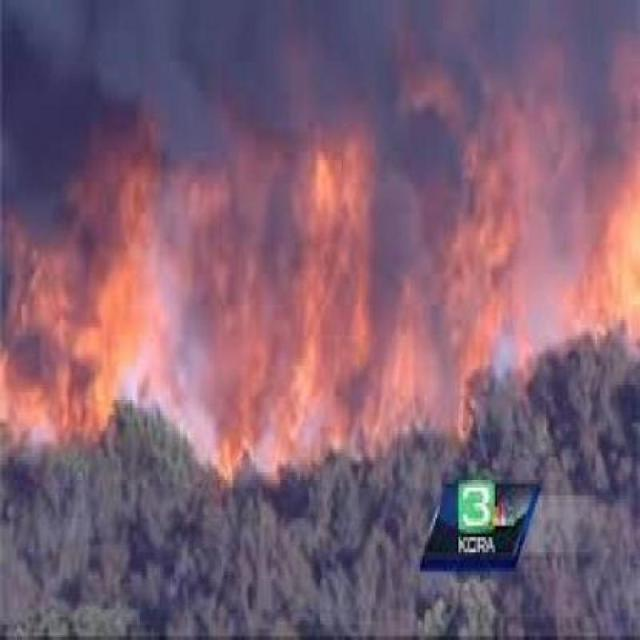Fire: (0, 274, 640, 452)
Smoke: (0, 0, 640, 165)
